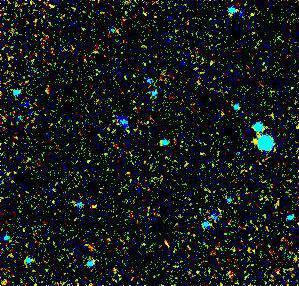star: (240, 126, 270, 156)
